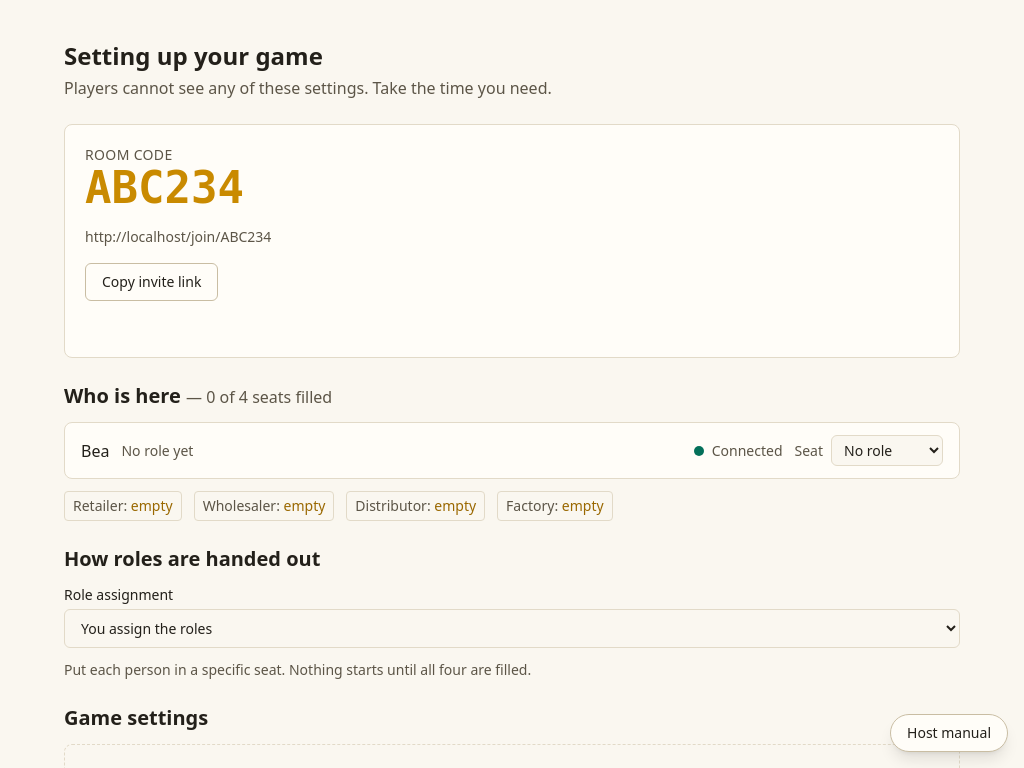
Test: CRITERION 20: copying the invite link › confirms with the word "Copied" (§2.4b)
The image size is (1024, 768).
Click the button "Copy invite link". click: click(152, 282)
box: [85,263,218,301]
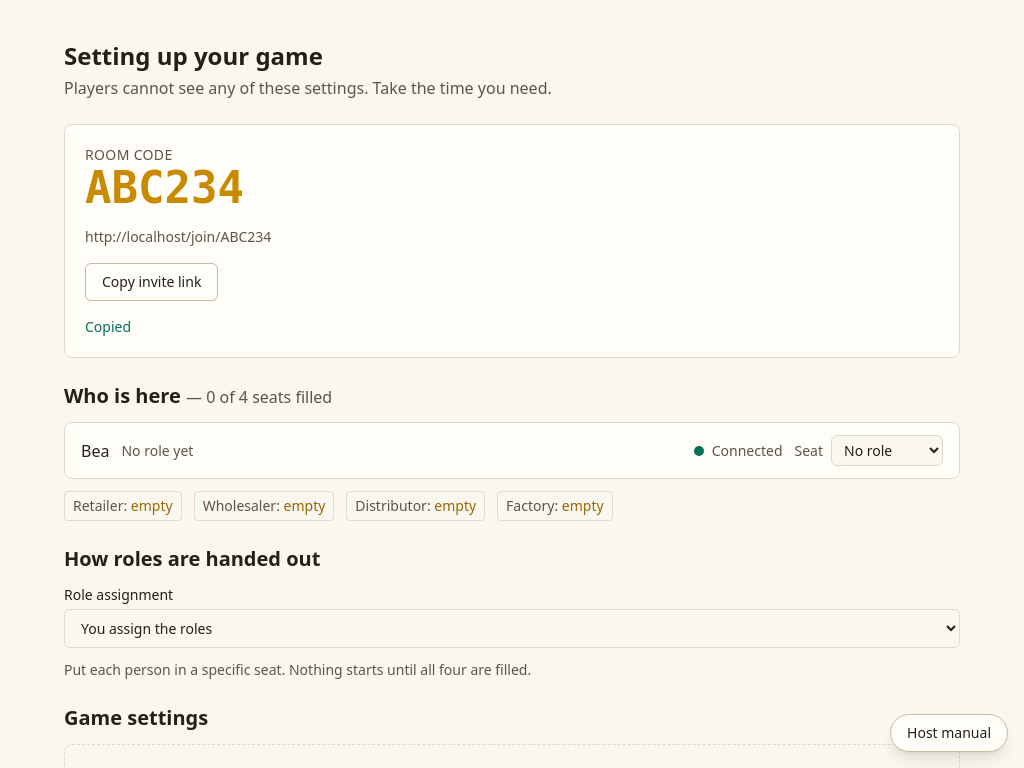
Result: the text "Copied" is shown at [85,317,131,336]
